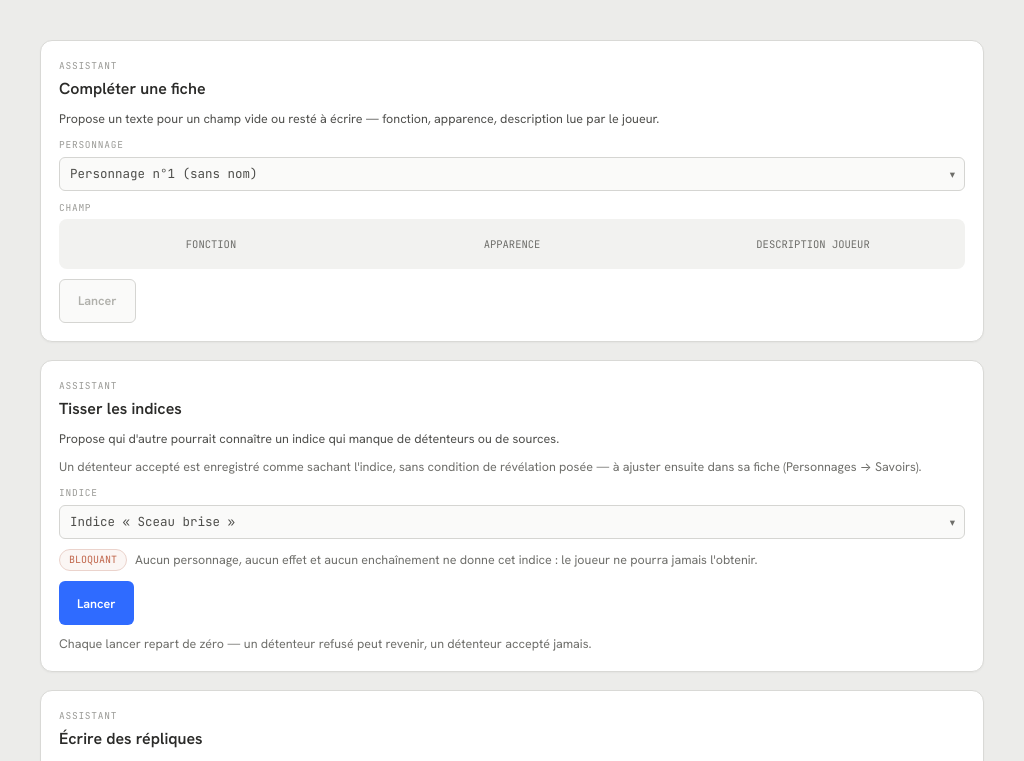
Test: detenteurs - acceptation › accepter ecrit via DossierService.update, ordre persistance puis evenement, un seul appel
Step 1. Click the button "Lancer" below "BLOQUANT" → point(96, 603), box [59,581,134,625]
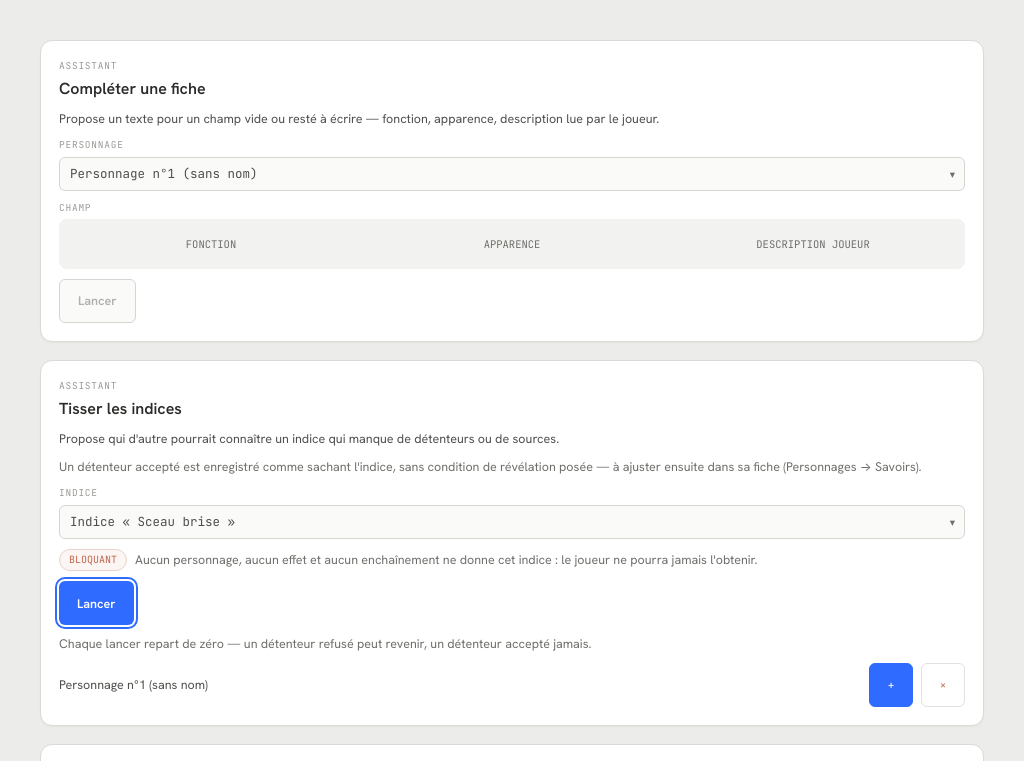
Expected: the button named "Accepter la proposition" is shown
Step 2. Click the button named "Accepter la proposition" → point(891, 686), box [869,664,913,708]
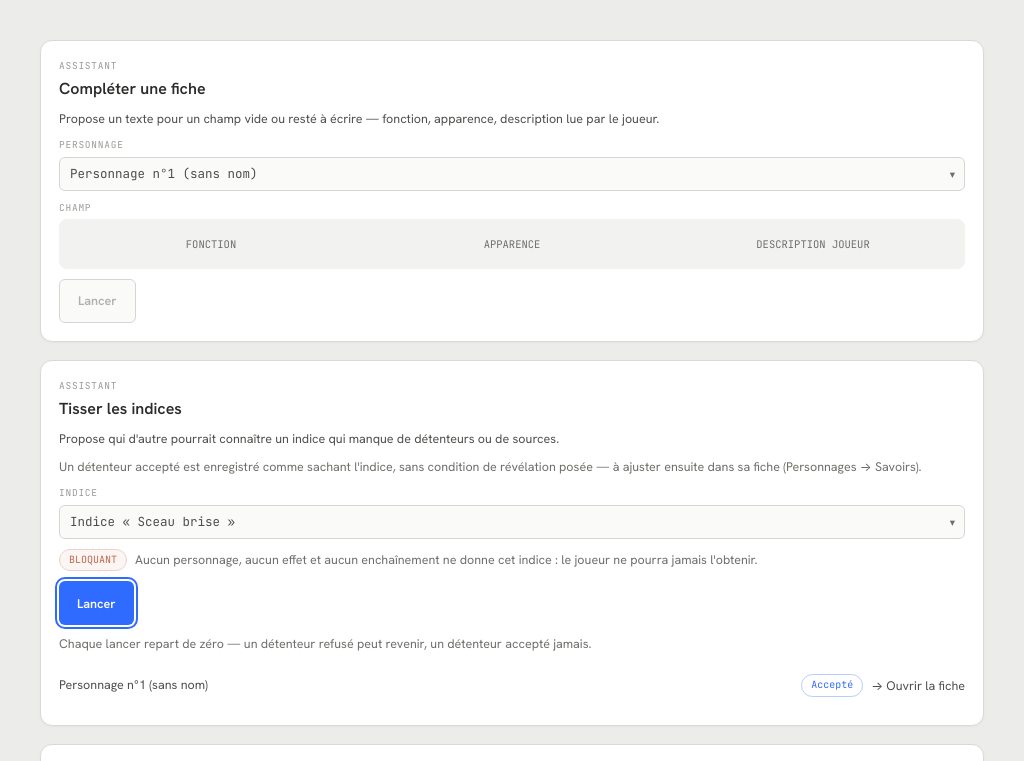
Expected: the text "Accepté" is shown, [801,674,863,697]
